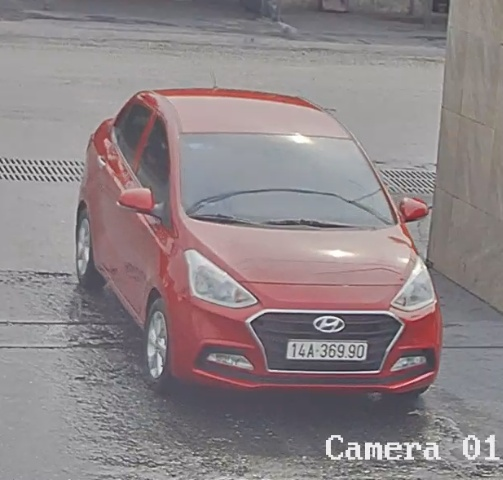vehicle plate: (285, 334, 375, 365)
